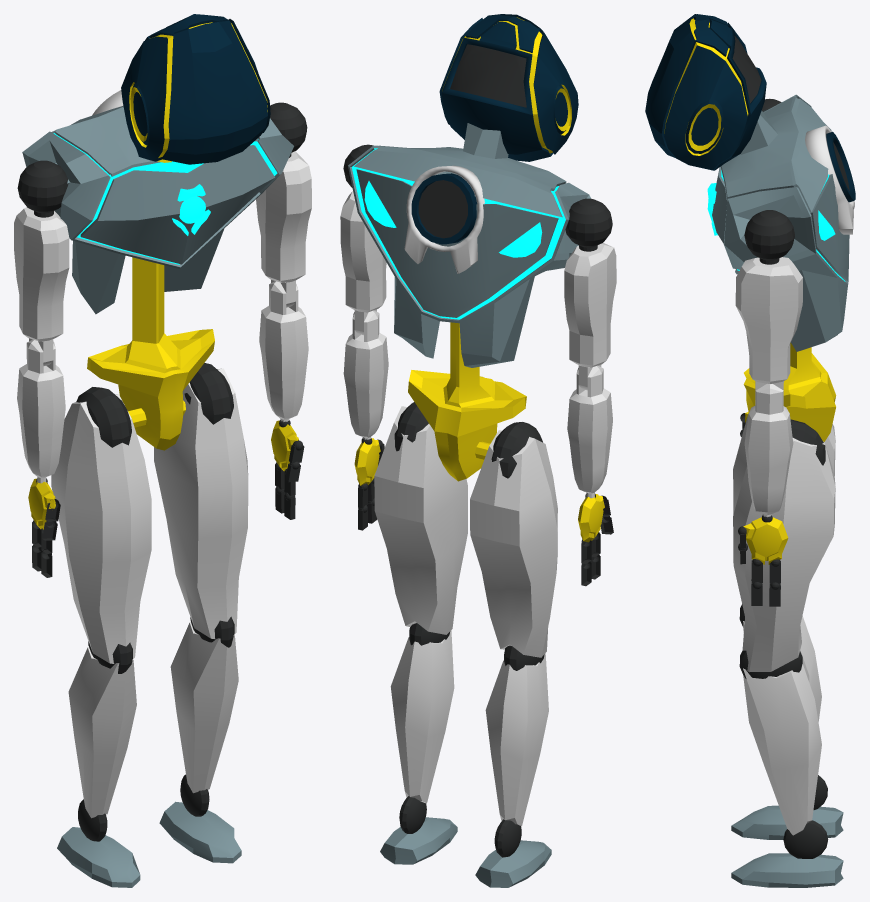
File: PB_DeactivatedPose.fbx
3 renders of one model, left to right at view 1: azimuth 30°, elevation 25°; view 2: azimuth 150°, elevation 25°; view 3: azimuth 270°, elevation 25°, orthographic. The views are drawn at different scales.
Parts seen in each view (by area): view 1: Torso, R_Thigh, Head, L_Thigh, Pelvis, R_Calve, L_Calve, R_Arm, L_Arm, L_ForeArm, R_ForeArm, R_Foot (+10 smaller); view 2: Torso, R_Thigh, Head, L_Thigh, Pelvis, L_Calve, R_Calve, R_Arm, R_ForeArm, L_ForeArm, L_Arm, Ability (+12 smaller); view 3: Torso, Head, L_Thigh, L_Calve, L_Arm, L_ForeArm, Pelvis, L_Foot, L_Shoulder, R_Foot, Cooldown, L_Hand (+6 smaller).
Boxes of the visible parts, x1,y1,x2,y2 form: Torso: (22, 106, 293, 314); R_Thigh: (51, 394, 151, 663); Head: (121, 14, 270, 164); L_Thigh: (154, 368, 248, 639); Pelvis: (87, 257, 214, 450); R_Calve: (68, 646, 136, 818); L_Calve: (170, 621, 238, 793); R_Arm: (14, 207, 69, 365); L_Arm: (256, 151, 311, 307); L_ForeArm: (259, 281, 308, 421); R_ForeArm: (17, 339, 65, 483); R_Foot: (57, 827, 140, 887); Torso: (348, 123, 590, 367); R_Thigh: (470, 430, 557, 657); Head: (439, 14, 578, 161); L_Thigh: (374, 406, 467, 634); Pelvis: (408, 322, 526, 481); L_Calve: (390, 630, 454, 803); R_Calve: (485, 653, 548, 826); R_Arm: (564, 243, 616, 390); R_ForeArm: (567, 365, 612, 498); L_ForeArm: (343, 310, 388, 439); L_Arm: (340, 191, 386, 335); Ability: (411, 173, 477, 244); Torso: (712, 94, 849, 351); Head: (645, 14, 766, 170); L_Thigh: (733, 438, 835, 672); L_Calve: (743, 664, 821, 835); L_Arm: (735, 257, 802, 399); L_ForeArm: (744, 383, 793, 517); Pelvis: (743, 342, 836, 441); L_Foot: (731, 853, 843, 887); L_Shoulder: (744, 210, 794, 264); R_Foot: (731, 805, 843, 839); Cooldown: (805, 125, 854, 234); L_Hand: (743, 517, 788, 564).
Bounding box in the file's own units: 55.87 × 164 × 37.51.
